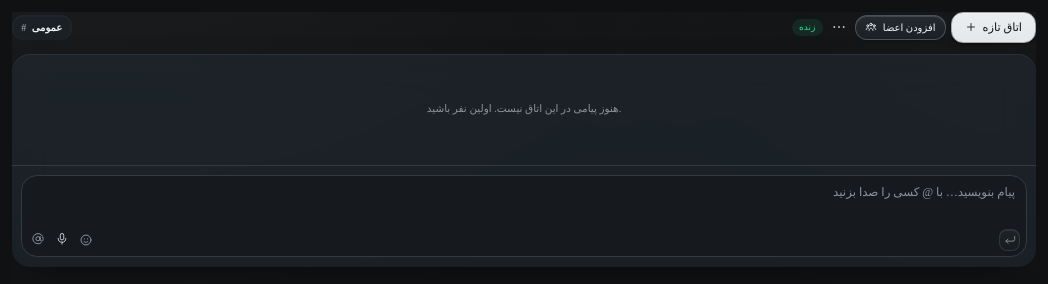
it: the composer › never offers a colleague who has no handle
Type "@r" into the text box with placeholder "پیام بنویسید… با @ کسی را صدا بزنید".
click(524, 199); type("@r")  # box left=22, top=176, right=1026, bottom=222
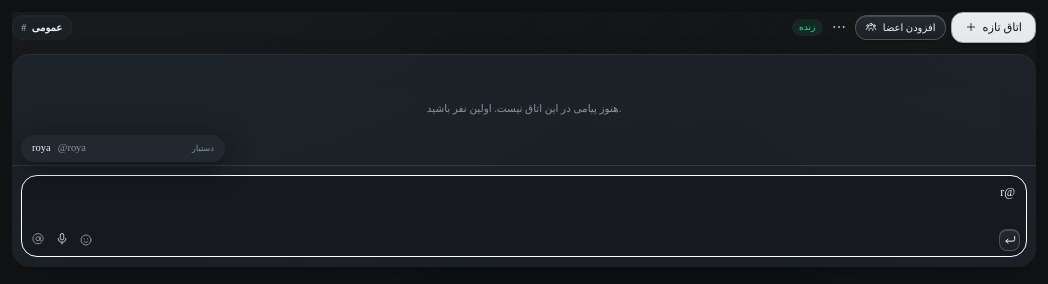
Expected: the text "@roya" is shown, left=58, top=140, right=86, bottom=157
